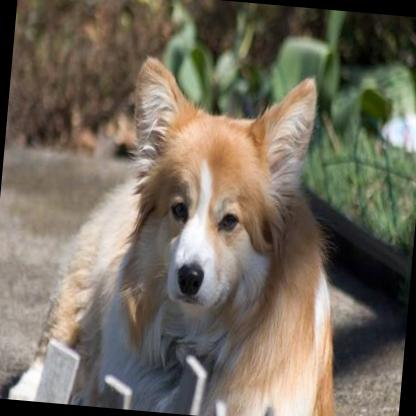Pembroke: (4, 41, 367, 416)
